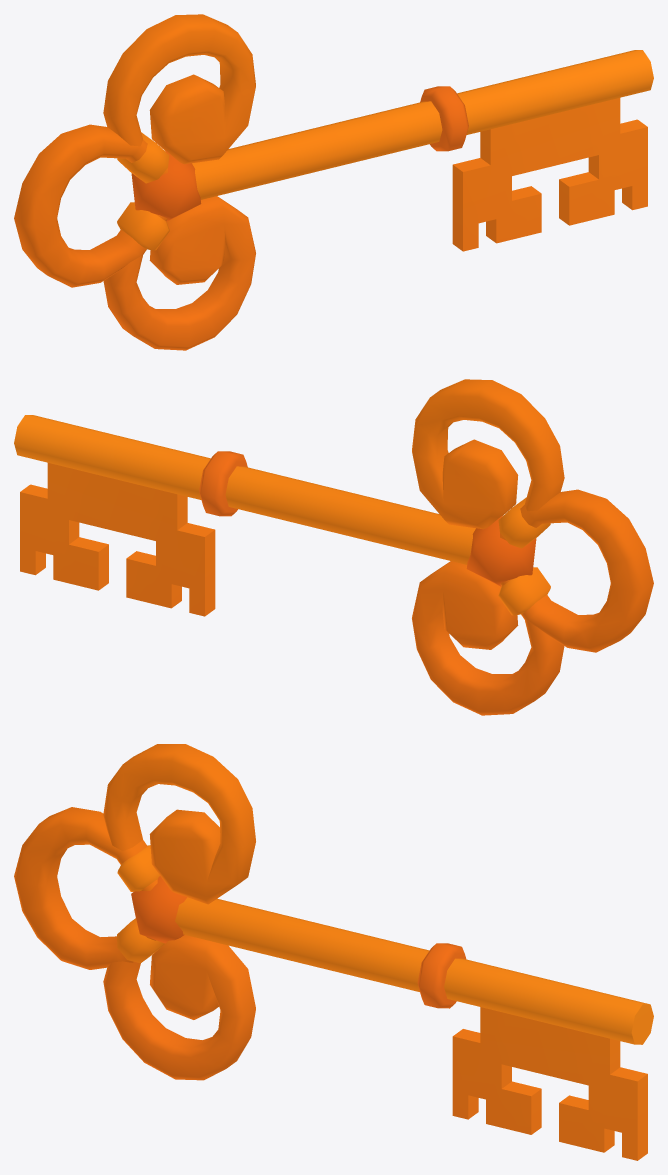
Rendered from key_002.glb.
3 renders of one model, top to bottom at view 1: azimuth 30°, elevation 25°; view 2: azimuth 150°, elevation 25°; view 3: azimuth 330°, elevation 25°, orthographic.
Parts seen in each view (by area): view 1: key_002; view 2: key_002; view 3: key_002.
Boxes of the visible parts, x1,y1,x2,y2 form: key_002: [14, 14, 653, 350]; key_002: [14, 379, 653, 715]; key_002: [14, 744, 653, 1160].
Size of the model in its own units: 2.05 by 1.03 by 0.1945.
1 material, 1 textured.
